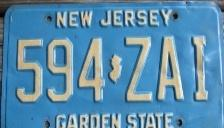4: (74, 36, 106, 104)
5: (14, 36, 45, 104)
9: (44, 37, 76, 103)
A: (155, 35, 187, 102)
I: (188, 34, 214, 102)
Z: (123, 35, 155, 103)
